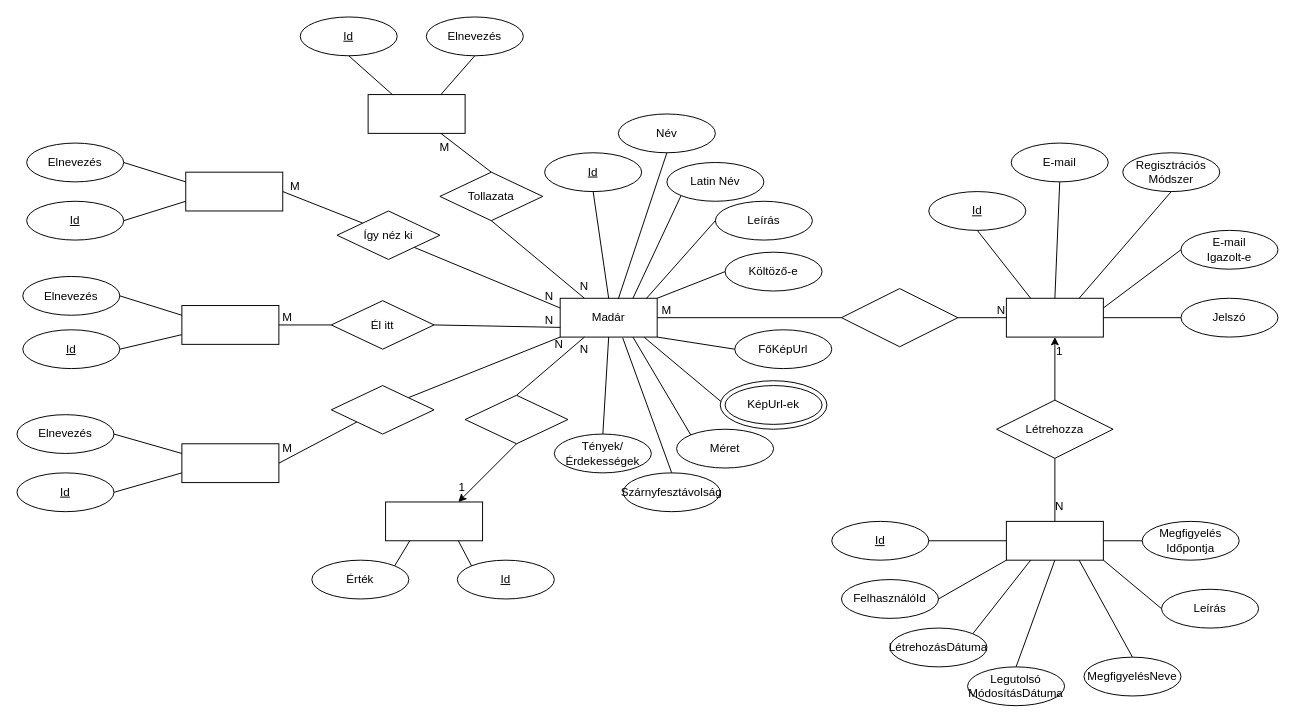
Image size: 1295x723. Some labels were removed from this diagram. Each missing label, with the centre of its shape:
"Alak" belongs at point (234, 191).
"Felhasználó" belongs at point (1054, 317).
"Fogyasztja" belongs at point (382, 409).
"Megfigyelés" belongs at point (1054, 540).
"Megtekinti" belongs at point (899, 317).
"Szín" belongs at point (416, 113).
"Természetvédelmi érték" belongs at point (434, 521).
"Táplálék" belongs at point (230, 463).
"Élőhely" belongs at point (230, 324).
"Értéke" belongs at point (516, 419).
